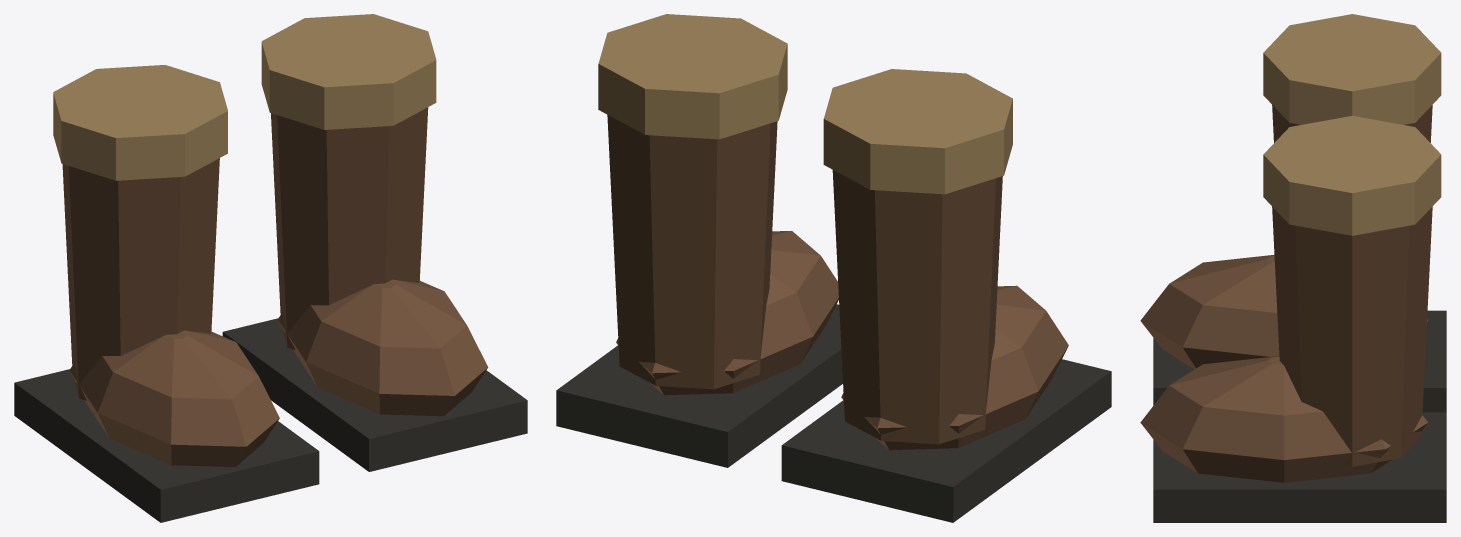
The model's file is leatherBoots.glb.
3 views of the same model, side by side, from view 1: azimuth 30°, elevation 25°; view 2: azimuth 150°, elevation 25°; view 3: azimuth 270°, elevation 25° (orthographic). The views are drawn at different scales.
Parts seen in each view (by area): view 1: leatherBoots; view 2: leatherBoots; view 3: leatherBoots.
Part boxes in pixels (x1,y1,x2,y2): leatherBoots: (14,14,527,522); leatherBoots: (556,14,1111,522); leatherBoots: (1140,14,1446,522).
Bounding box in the file's own units: 1 × 0.858 × 0.7222.
